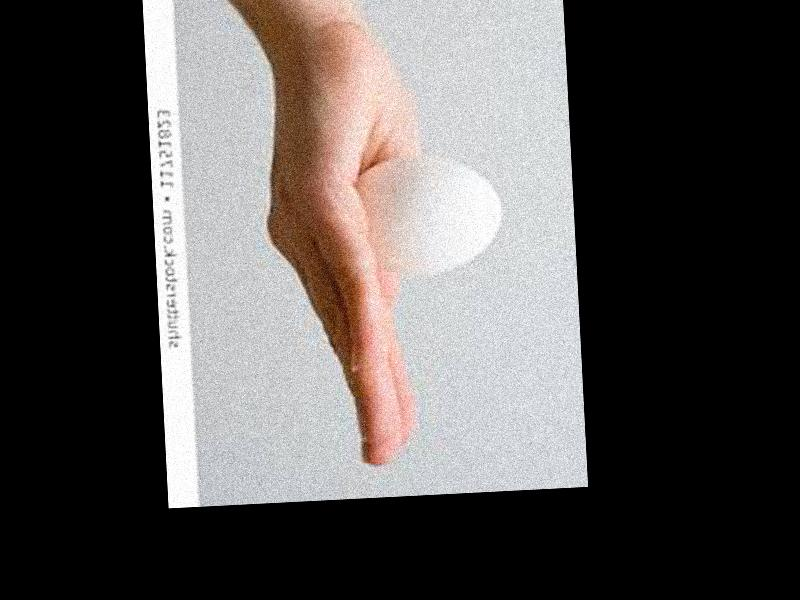Eggs: (354, 158, 503, 278)
